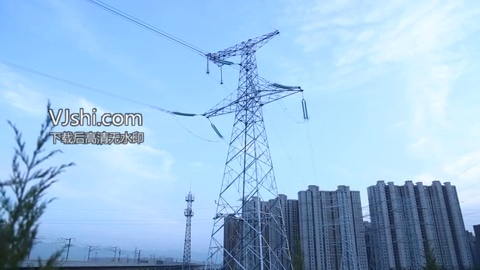tower_body: (199, 25, 295, 270)
tower_foot: (203, 216, 291, 270)
tower_head: (200, 28, 280, 65)
